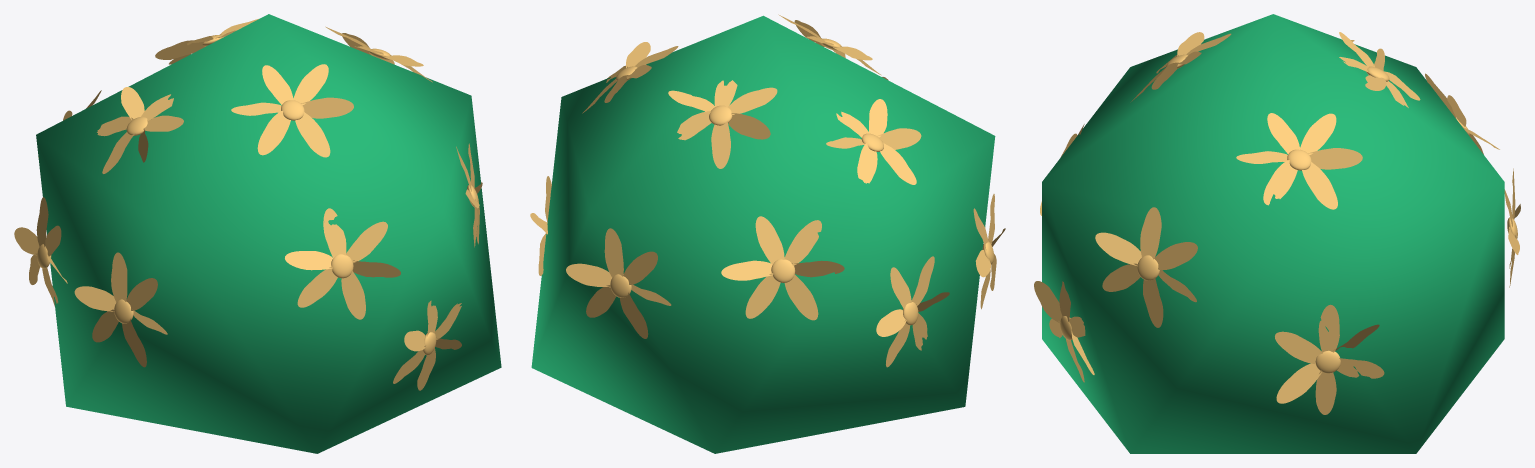
The model's file is bloemenstruik1.fbx.
3 views of the same model, side by side, from view 1: azimuth 30°, elevation 25°; view 2: azimuth 150°, elevation 25°; view 3: azimuth 270°, elevation 25° (orthographic). The views are drawn at different scales.
Visible parts, largest first — view 1: Icosphere.004, Circle.112, Circle.002, Circle.109, Circle.110, Circle.005, Circle.006, Circle.113, Circle.004, Circle.045, Circle.001, Circle.048 (+10 smaller); view 2: Icosphere.004, Circle.056, Circle.055, Circle.059, Circle.060, Circle.058, Circle.033, Circle.054, Circle.050, Circle.036, Circle.051, Circle.035 (+12 smaller); view 3: Icosphere.004, Circle.016, Circle.028, Circle.009, Circle.025, Circle.013, Circle.012, Circle.014, Circle.029, Circle.026, Circle.011, Circle.017 (+6 smaller).
Boxes of the visible parts, x1,y1,x2,y2 form: Icosphere.004: [36, 14, 501, 453]; Circle.112: [301, 97, 353, 118]; Circle.002: [346, 221, 387, 262]; Circle.109: [295, 112, 330, 157]; Circle.110: [257, 111, 290, 155]; Circle.005: [297, 266, 337, 307]; Circle.006: [341, 270, 365, 319]; Circle.113: [293, 64, 328, 105]; Circle.004: [285, 251, 332, 270]; Circle.045: [74, 286, 116, 311]; Circle.001: [323, 208, 346, 258]; Circle.048: [111, 252, 127, 302]; Icosphere.004: [531, 15, 995, 453]; Circle.056: [784, 220, 821, 265]; Circle.055: [755, 216, 784, 265]; Circle.059: [745, 273, 780, 318]; Circle.060: [784, 274, 818, 320]; Circle.058: [721, 260, 772, 280]; Circle.033: [566, 263, 611, 287]; Circle.054: [711, 121, 730, 168]; Circle.050: [728, 87, 777, 114]; Circle.036: [604, 228, 623, 277]; Circle.051: [728, 113, 770, 139]; Circle.035: [623, 251, 657, 284]; Icosphere.004: [1042, 14, 1504, 453]; Circle.016: [1276, 363, 1322, 403]; Circle.028: [1308, 148, 1362, 169]; Circle.009: [1095, 232, 1141, 266]; Circle.025: [1302, 162, 1337, 209]; Circle.013: [1275, 331, 1322, 364]; Circle.012: [1140, 207, 1161, 259]; Circle.014: [1318, 304, 1339, 352]; Circle.029: [1300, 113, 1336, 154]; Circle.026: [1263, 160, 1297, 205]; Circle.011: [1154, 242, 1197, 270]; Circle.017: [1315, 370, 1336, 414].
Bounding box in the file's own units: 107 × 86.4 × 106.
